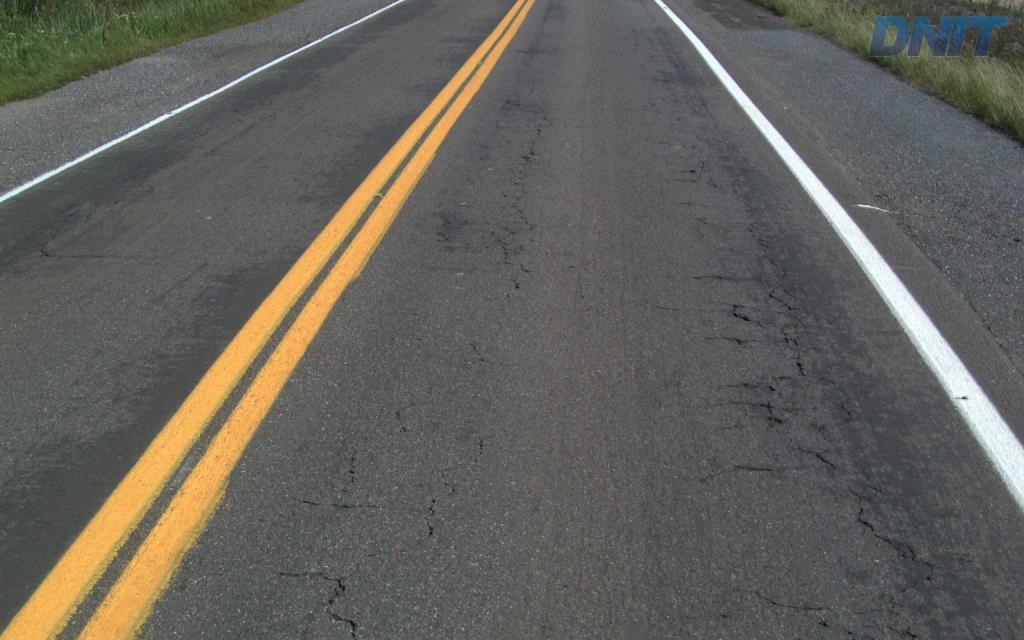crack: (874, 533, 942, 593)
